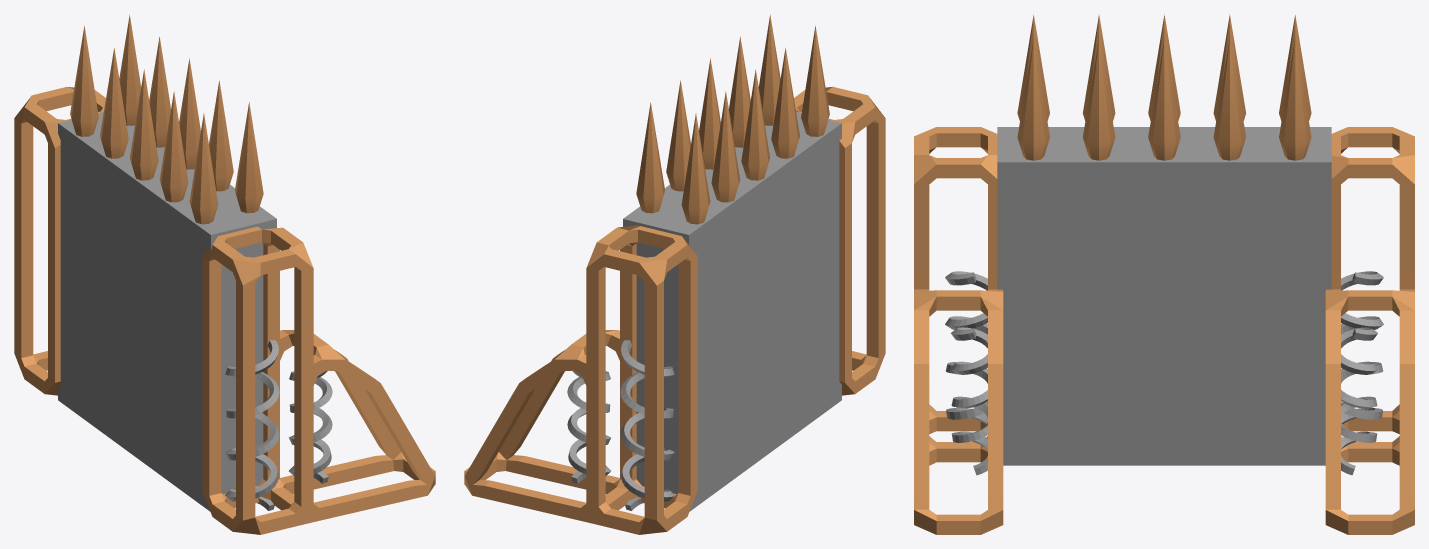
File: door.glb
3 views of the same model, side by side, from view 1: azimuth 30°, elevation 25°; view 2: azimuth 150°, elevation 25°; view 3: azimuth 270°, elevation 25° (orthographic). The views are drawn at different scales.
Parts seen in each view (by area): view 1: Door, Scaffold, Spikes, Spring 1, Spring 2; view 2: Door, Scaffold, Spikes, Spring 1, Spring 2; view 3: Door, Scaffold, Spikes, Spring 2, Spring 1.
Part boxes in pixels (bbox=[...]): Door: bbox=[58, 112, 276, 511]; Scaffold: bbox=[14, 86, 435, 534]; Spikes: bbox=[70, 14, 263, 224]; Spring 1: bbox=[225, 340, 279, 510]; Spring 2: bbox=[289, 370, 332, 483]; Door: bbox=[623, 112, 841, 511]; Scaffold: bbox=[464, 86, 885, 534]; Spikes: bbox=[636, 14, 829, 224]; Spring 1: bbox=[620, 340, 674, 510]; Spring 2: bbox=[567, 370, 610, 483]; Door: bbox=[997, 127, 1331, 465]; Scaffold: bbox=[914, 127, 1414, 534]; Spikes: bbox=[1017, 14, 1311, 160]; Spring 2: bbox=[951, 327, 1377, 475]; Spring 1: bbox=[945, 271, 1383, 423].
Size of the model in its own units: 2.09 by 3.82 by 4.07.
